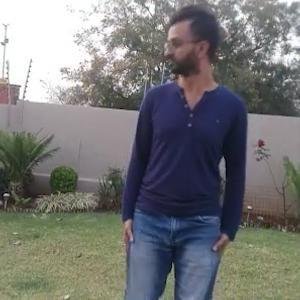follow: (112, 2, 248, 297)
